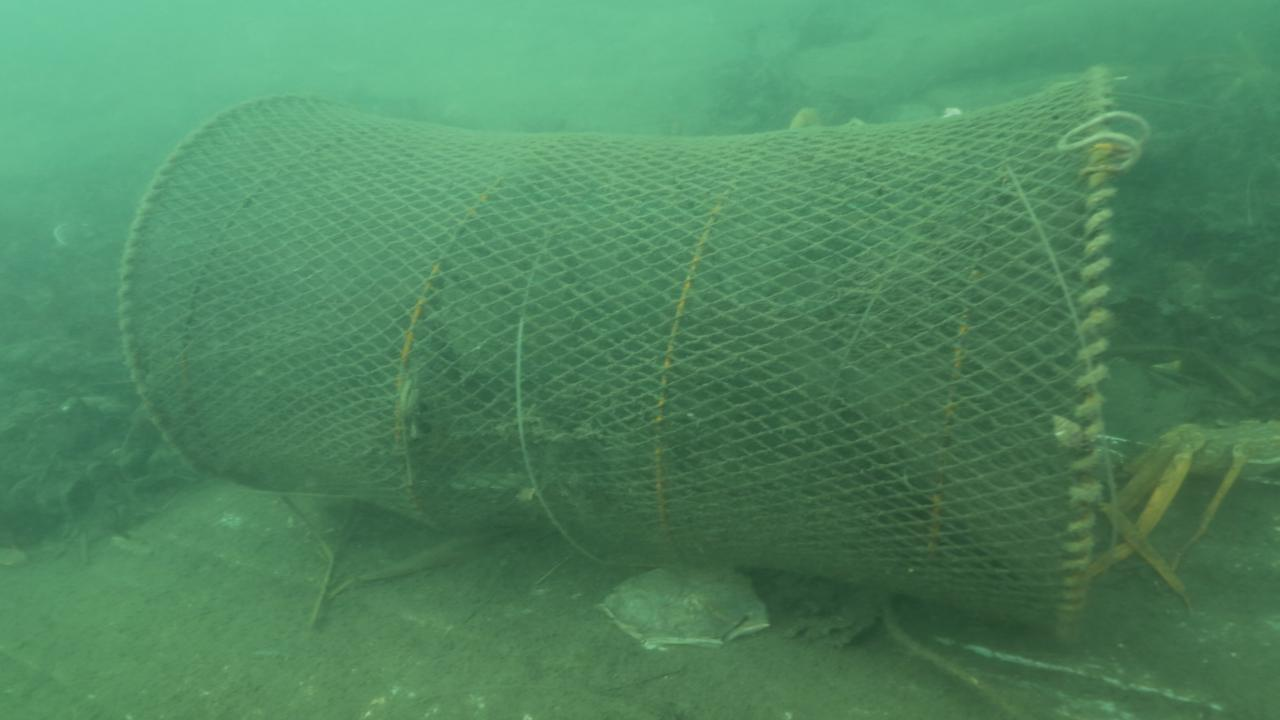spring fish trap: (115, 67, 1118, 641)
